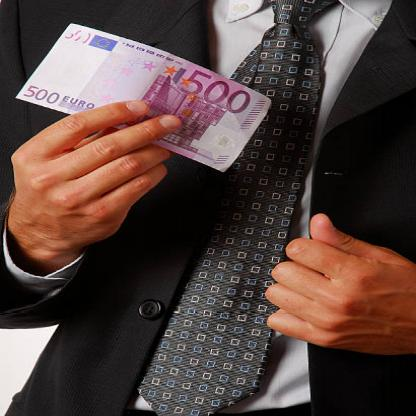billete: (12, 21, 273, 174)
